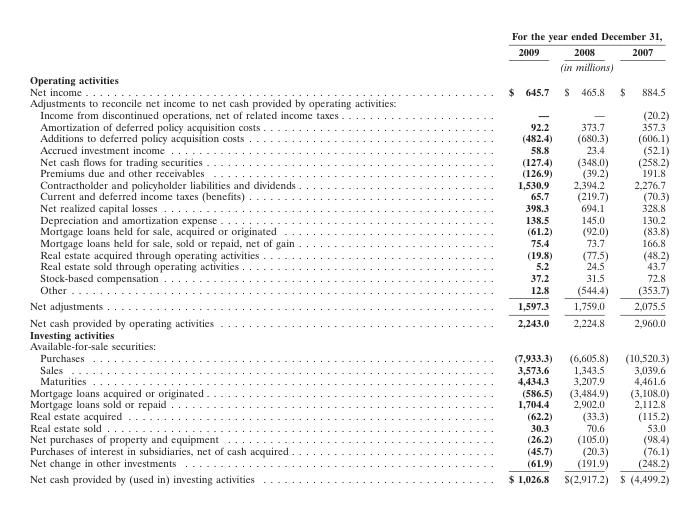table: (28, 29, 668, 485)
table column: (28, 29, 422, 485), (422, 29, 557, 485), (557, 29, 613, 485), (613, 29, 668, 485)
table column header: (28, 29, 668, 73)
table projected row header: (28, 73, 668, 85), (28, 96, 668, 108), (28, 339, 668, 351), (28, 328, 668, 339)
table row: (28, 297, 668, 314), (28, 43, 668, 58), (28, 58, 668, 73), (28, 470, 668, 485), (28, 29, 668, 43), (28, 283, 668, 297), (28, 314, 668, 328), (28, 456, 668, 470), (28, 73, 668, 85), (28, 96, 668, 108), (28, 108, 668, 120), (28, 131, 668, 143), (28, 143, 668, 155), (28, 166, 668, 178), (28, 178, 668, 190), (28, 201, 668, 213), (28, 224, 668, 236), (28, 236, 668, 248), (28, 259, 668, 271), (28, 271, 668, 283), (28, 339, 668, 351), (28, 351, 668, 363), (28, 374, 668, 386), (28, 386, 668, 398), (28, 409, 668, 421), (28, 432, 668, 444), (28, 444, 668, 456), (28, 85, 668, 96), (28, 120, 668, 131), (28, 155, 668, 166), (28, 190, 668, 201), (28, 213, 668, 224), (28, 248, 668, 259), (28, 328, 668, 339), (28, 363, 668, 374), (28, 398, 668, 409), (28, 421, 668, 432)
table spanning cell: (422, 58, 668, 73), (422, 29, 668, 43)
